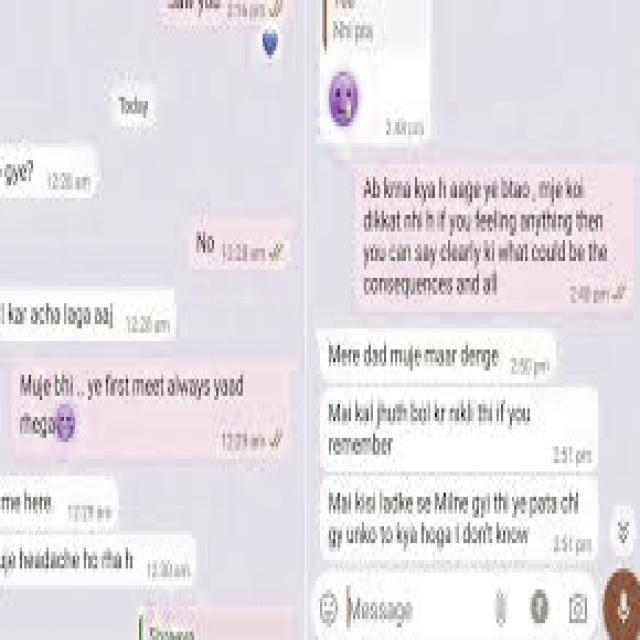scam: (324, 472, 592, 564), (324, 403, 578, 478), (320, 0, 435, 135), (322, 328, 548, 391), (0, 530, 188, 582), (0, 286, 174, 340), (0, 138, 106, 206), (0, 476, 119, 535)
